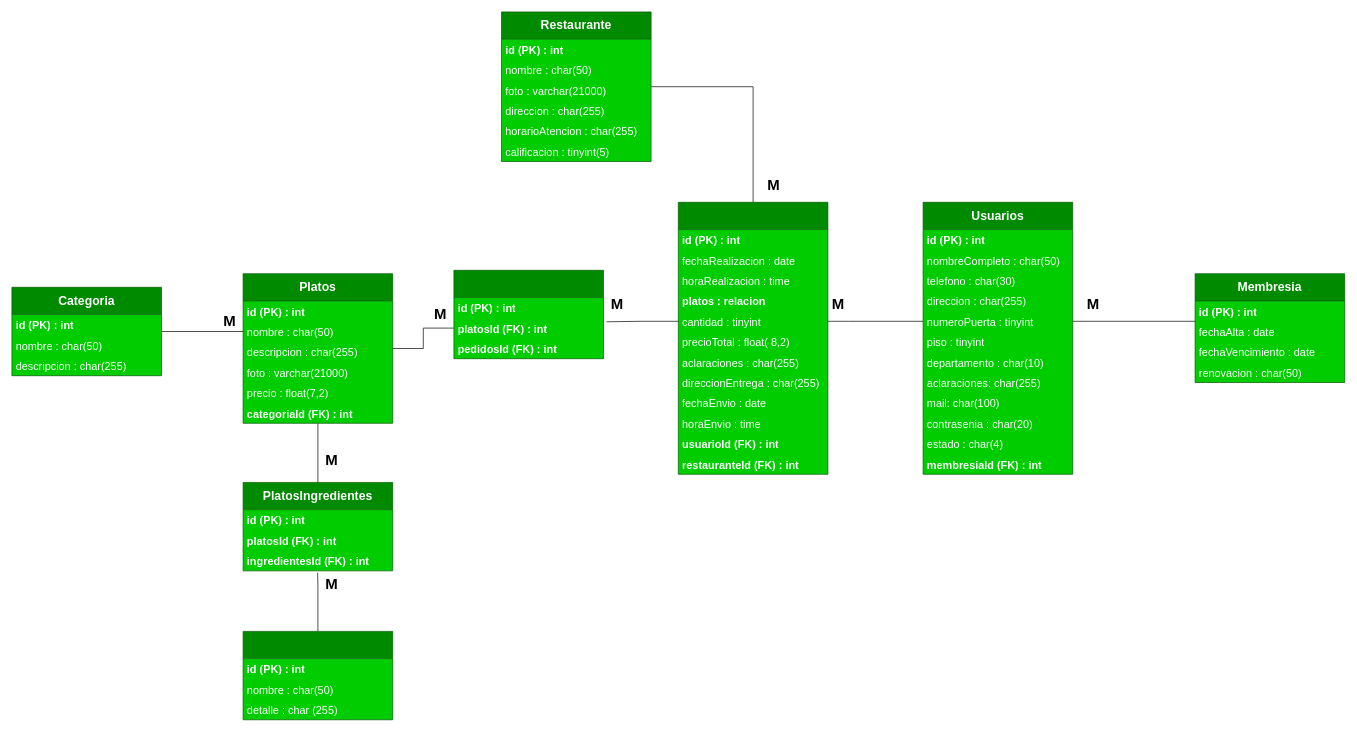
This 1357x734 diagram has some shape labels left out. The box of each missing label's shape, as (x1, y1, x2, y2) in pixels:
Ingredientes: (242, 631, 393, 720)
Pedidos: (678, 202, 828, 474)
PlatosPedidos: (453, 270, 604, 359)
